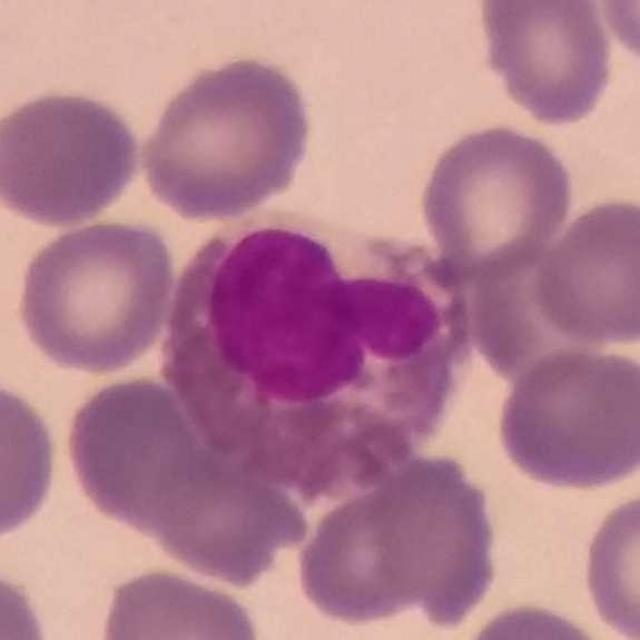Eosinophil: (160, 208, 470, 490)
RBC: (134, 50, 317, 223), (11, 216, 180, 376), (59, 372, 217, 536), (415, 119, 577, 278), (465, 237, 626, 393), (141, 451, 312, 589), (492, 343, 640, 494), (0, 85, 145, 229), (388, 452, 504, 624), (297, 487, 443, 622), (471, 0, 619, 129), (527, 192, 640, 349), (95, 564, 268, 640), (0, 370, 63, 547), (579, 483, 640, 640), (455, 597, 621, 640), (0, 560, 55, 640), (591, 0, 640, 69)
